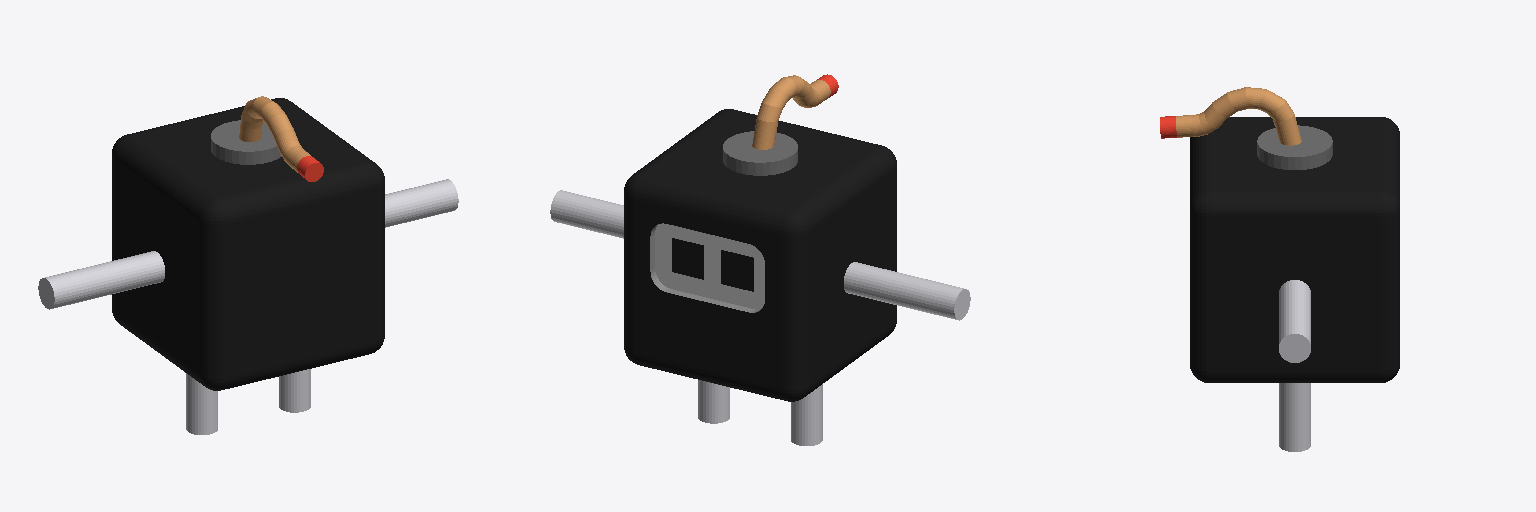
3 renders of one model, left to right at view 1: azimuth 30°, elevation 25°; view 2: azimuth 150°, elevation 25°; view 3: azimuth 270°, elevation 25°, orthographic.
Parts seen in each view (by area): view 1: 左足; view 2: 左足; view 3: 左足.
Part boxes in pixels (left/top/right/bottom): 左足: left=38, top=96, right=458, bottom=434; 左足: left=550, top=74, right=970, bottom=445; 左足: left=1160, top=87, right=1399, bottom=451.
Size of the model in its own units: 4.43 by 3.49 by 2.28.
Materials: 1 (1 with a texture image).